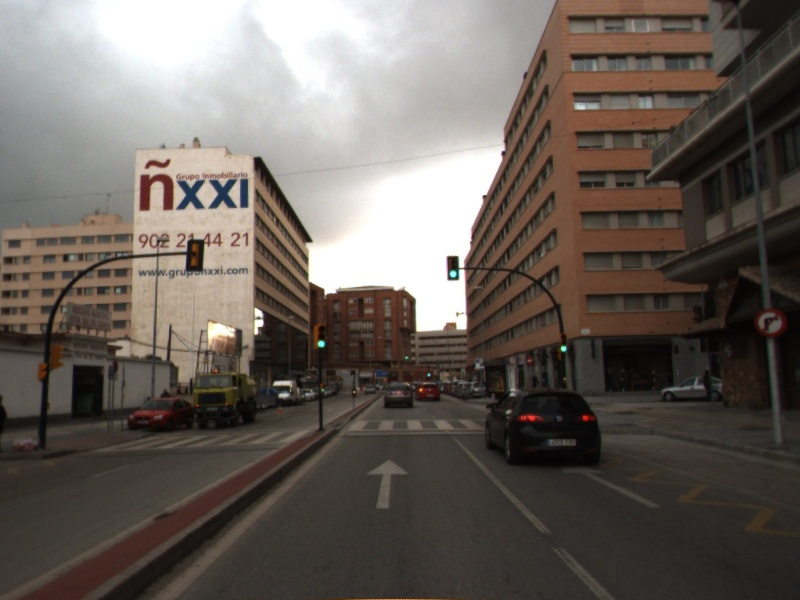STRAIGHT: (558, 461, 662, 510), (363, 457, 413, 511)
